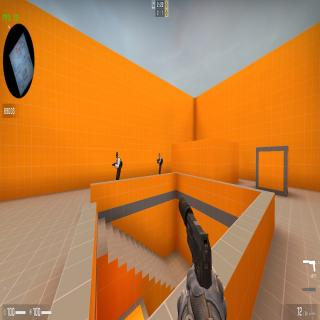T-Body: (114, 152, 121, 180), (157, 153, 162, 175)
T-Head: (116, 151, 118, 159), (158, 153, 160, 158)
